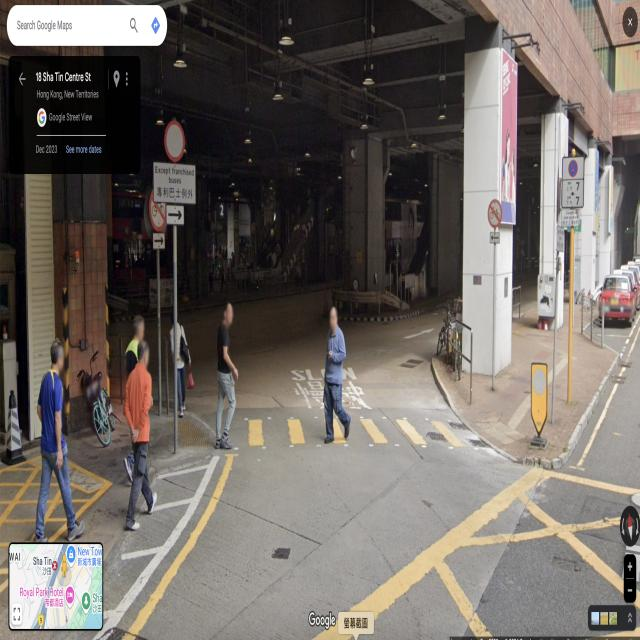Order-Sign: (153, 163, 195, 202), (563, 157, 584, 207), (164, 120, 186, 162), (488, 198, 502, 228), (562, 210, 580, 227)
